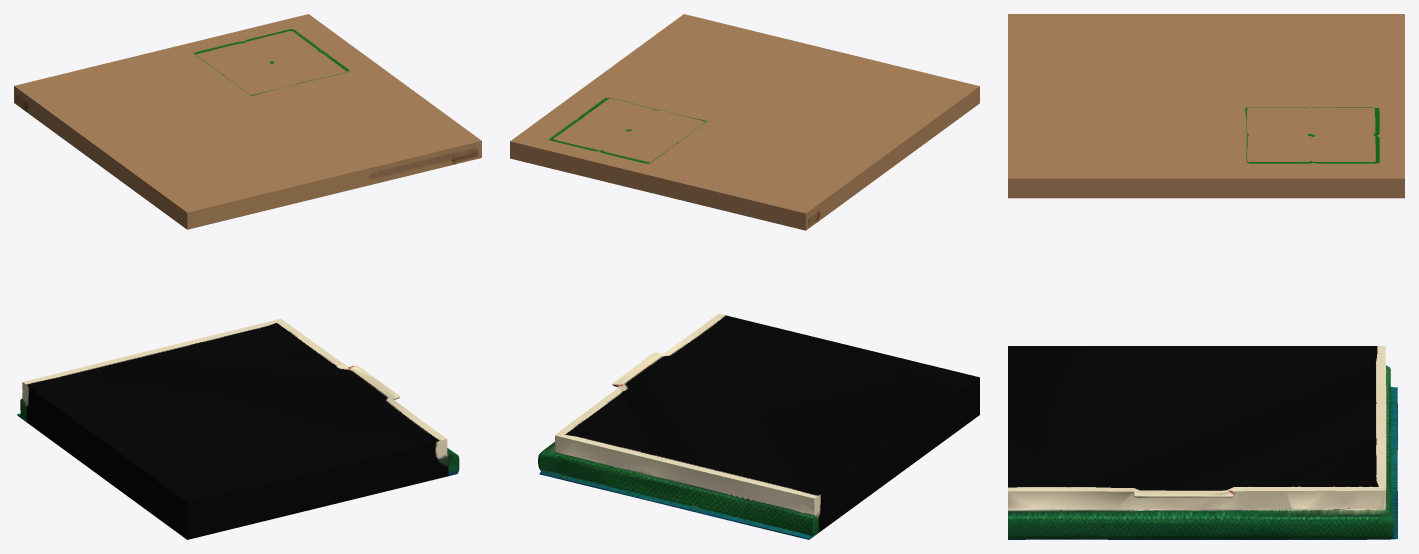
Rendered from 12-roof-back-right.fbx.
3 renders of one model, left to right at view 1: azimuth 30°, elevation 25°; view 2: azimuth 150°, elevation 25°; view 3: azimuth 270°, elevation 25°, orthographic. The views are drawn at different scales.
Parts seen in each view (by area): view 1: roof-back-right; view 2: roof-back-right; view 3: roof-back-right.
Boxes of the visible parts, box(x1,y1,x2,y2) form: roof-back-right: box(14, 14, 481, 539); roof-back-right: box(510, 14, 979, 539); roof-back-right: box(1008, 14, 1404, 539).
Bounding box in the file's own units: 5403 × 5736 × 5503.
1 material, 1 textured.
